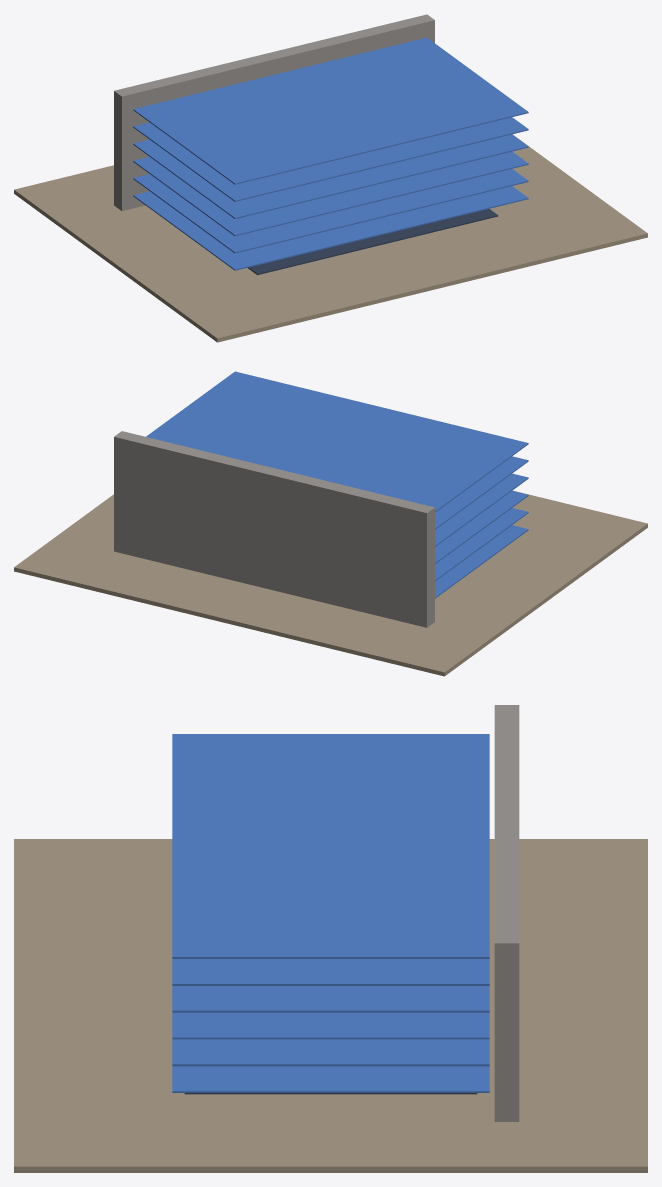
File: stage_06_walls.glb
3 renders of one model, top to bottom at view 1: azimuth 30°, elevation 25°; view 2: azimuth 150°, elevation 25°; view 3: azimuth 270°, elevation 25°, orthographic. The views are drawn at different scales.
Visible parts, largest first — view 1: world; view 2: world; view 3: world.
Part boxes in pixels (x1,y1,x2,y2): world: (14, 14, 647, 342); world: (14, 371, 647, 676); world: (14, 705, 647, 1172).
Bounding box in the file's own units: 11 × 2.9 × 9.
